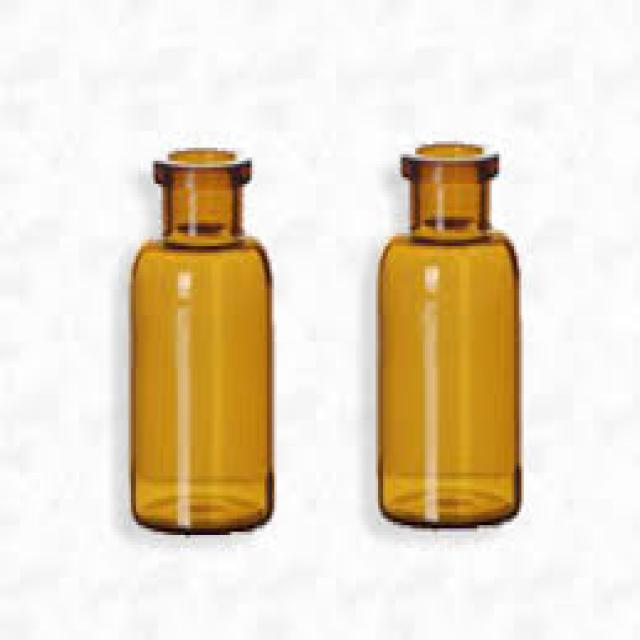glass: (373, 138, 519, 528), (128, 148, 272, 532)
